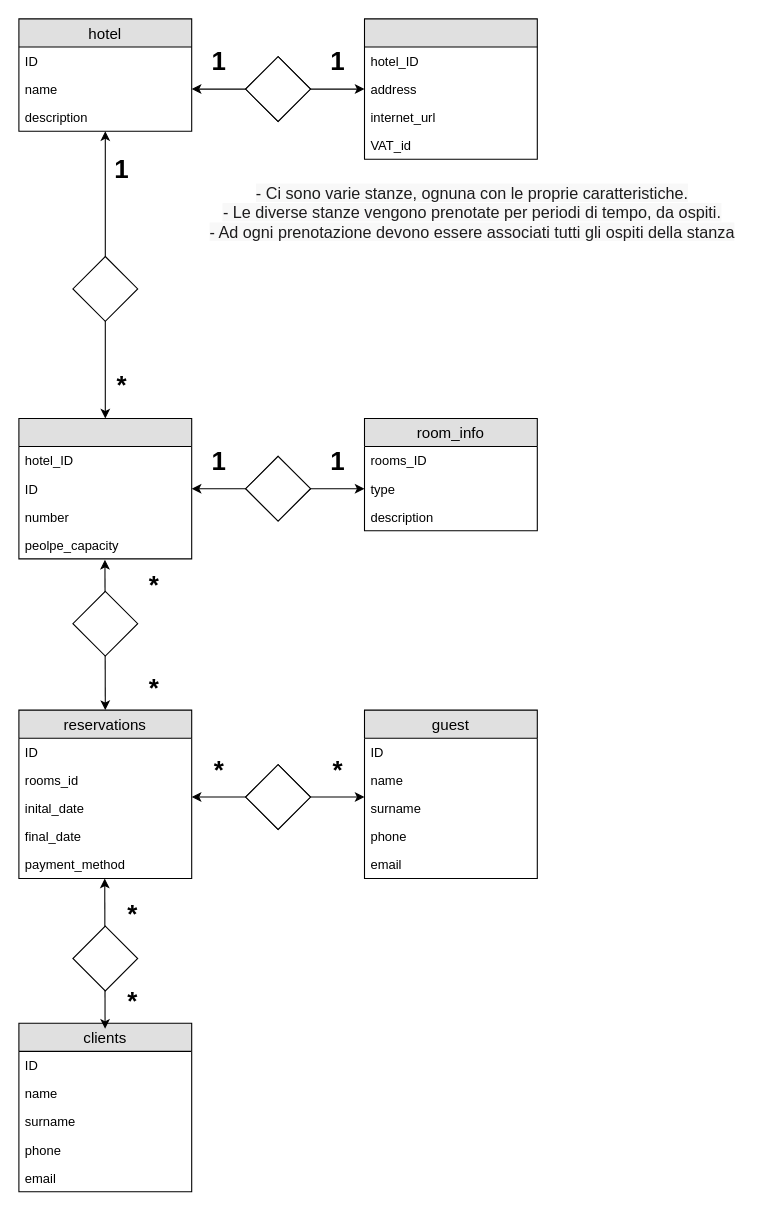
Some shapes in this 772 by 1214 pixel diagram are drawn without their labels. Here are the shapes that lost their labels. From the top down, the box of each, then its label:
(363, 18, 537, 159): hotel_info
(18, 417, 192, 559): rooms
